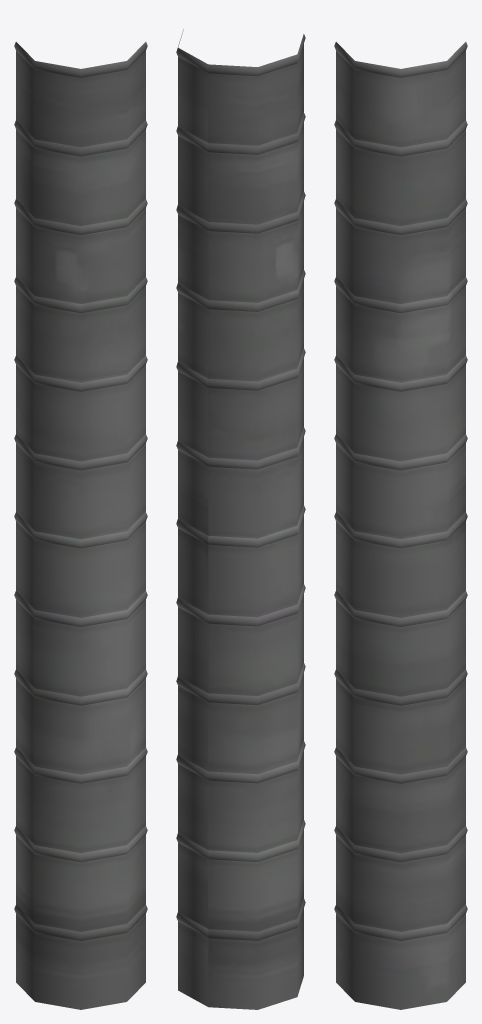
The picture shows the model from 3 angles, left to right: view 1: azimuth 90°, elevation 25°; view 2: azimuth 150°, elevation 25°; view 3: azimuth 270°, elevation 25°; orthographic projection.
Parts seen in each view (by area): view 1: body0_model0_lod0_mesh0; view 2: body0_model0_lod0_mesh0; view 3: body0_model0_lod0_mesh0.
Boxes of the visible parts, box(x1,y1,x2,y2) form: body0_model0_lod0_mesh0: box(14, 42, 147, 1009); body0_model0_lod0_mesh0: box(176, 29, 305, 1009); body0_model0_lod0_mesh0: box(334, 42, 467, 1009).
Bounding box in the file's own units: 16.48 × 128 × 16.47.
1 material, 1 textured.
